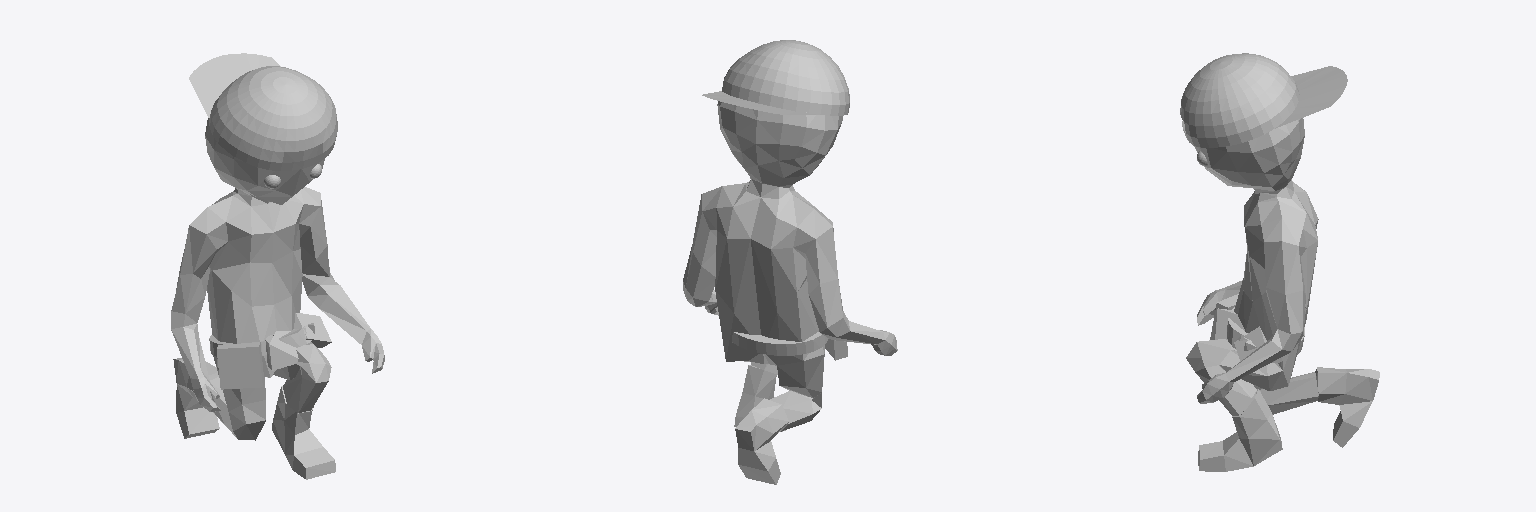
File: Main_Character_TireRepair_21.obj
3 renders of one model, left to right at view 1: azimuth 30°, elevation 25°; view 2: azimuth 150°, elevation 25°; view 3: azimuth 270°, elevation 25°, orthographic.
Parts seen in each view (by area): view 1: Main_Character_Test.003_Main_Character_Test.004; view 2: Main_Character_Test.003_Main_Character_Test.004; view 3: Main_Character_Test.003_Main_Character_Test.004.
Part boxes in pixels (x1,y1,x2,y2): Main_Character_Test.003_Main_Character_Test.004: (171, 53, 384, 479); Main_Character_Test.003_Main_Character_Test.004: (683, 40, 897, 484); Main_Character_Test.003_Main_Character_Test.004: (1180, 53, 1379, 471).
Bounding box in the file's own units: 1.63 × 3.29 × 1.51.